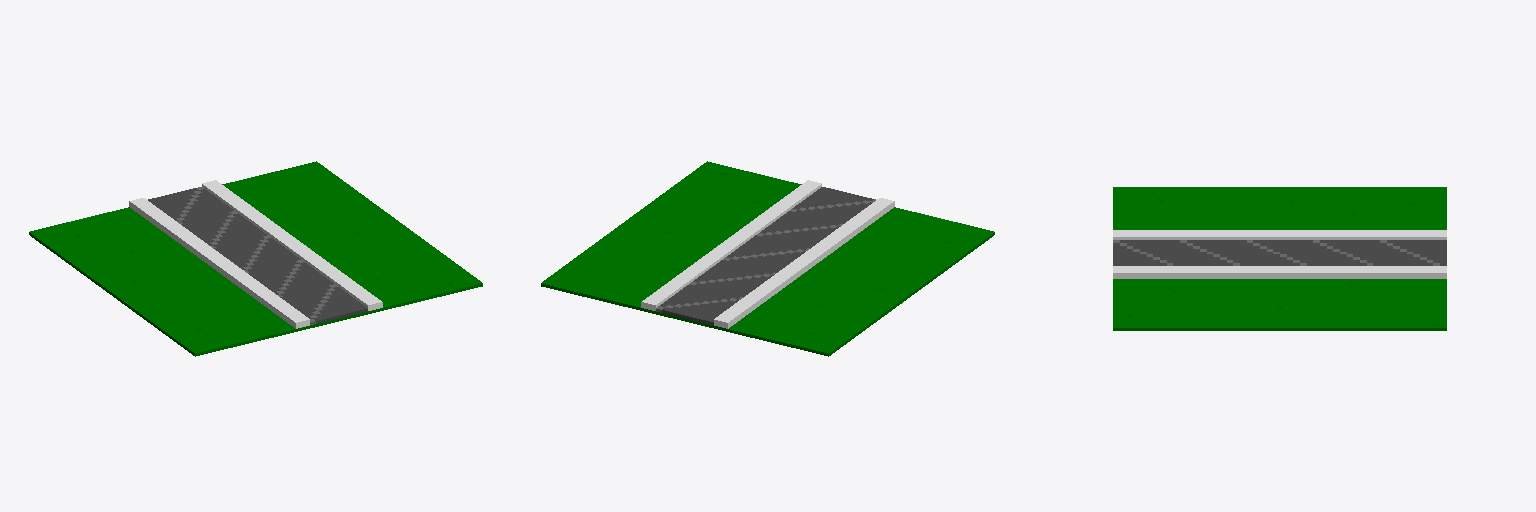
3 views of the same model, side by side, from view 1: azimuth 30°, elevation 25°; view 2: azimuth 150°, elevation 25°; view 3: azimuth 270°, elevation 25° (orthographic).
Parts seen in each view (by area): view 1: object 1; view 2: object 1; view 3: object 1.
Boxes of the visible parts, box(x1,y1,x2,y2) form: object 1: box(29, 161, 482, 356); object 1: box(541, 161, 994, 356); object 1: box(1113, 187, 1446, 330).
Bounding box in the file's own units: 10 × 0.3 × 10.
Materials: 1 (1 with a texture image).